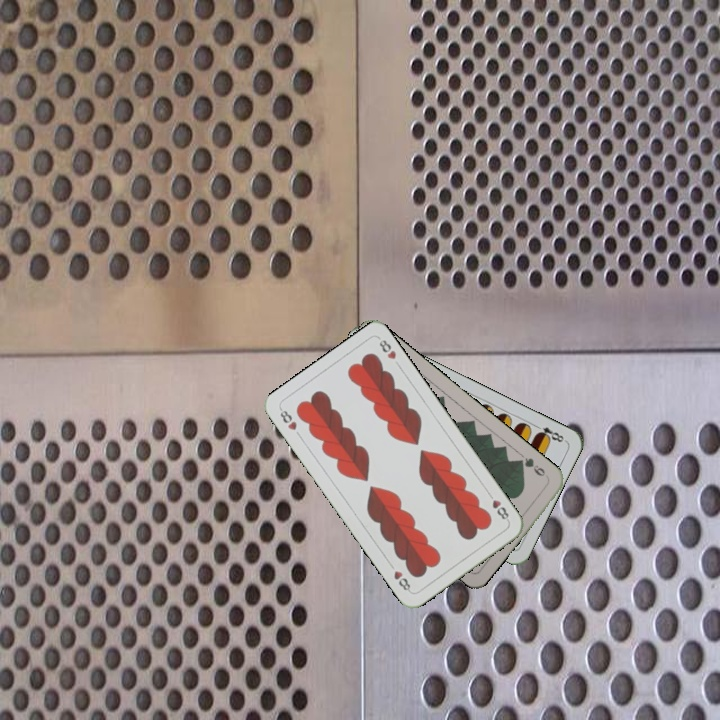E8: (530, 420, 566, 445)
G9: (513, 453, 551, 481)
H8: (484, 488, 512, 524), (276, 405, 299, 433)
